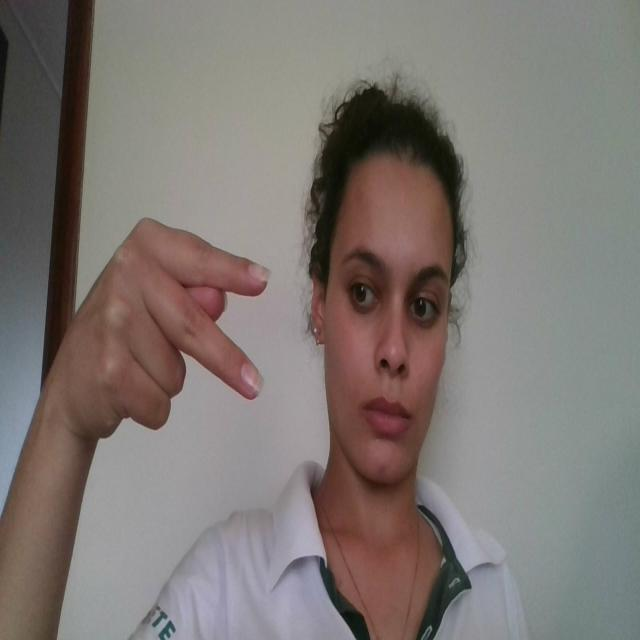P: (62, 201, 279, 439)
